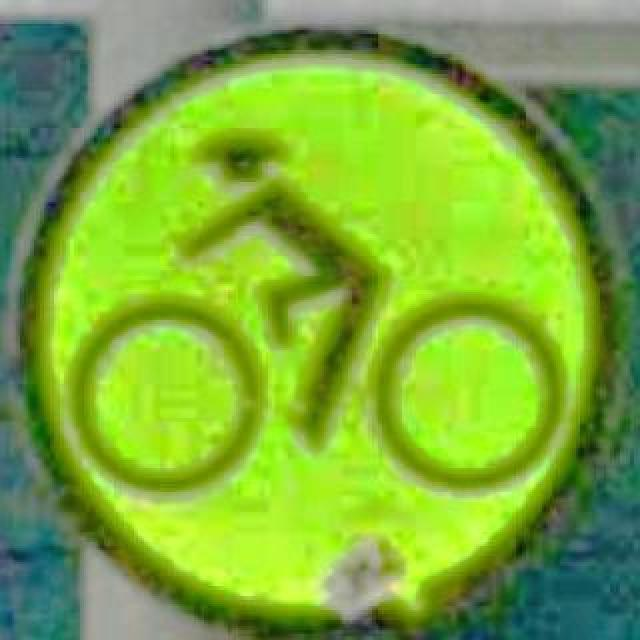bike lane: (10, 24, 620, 636)
